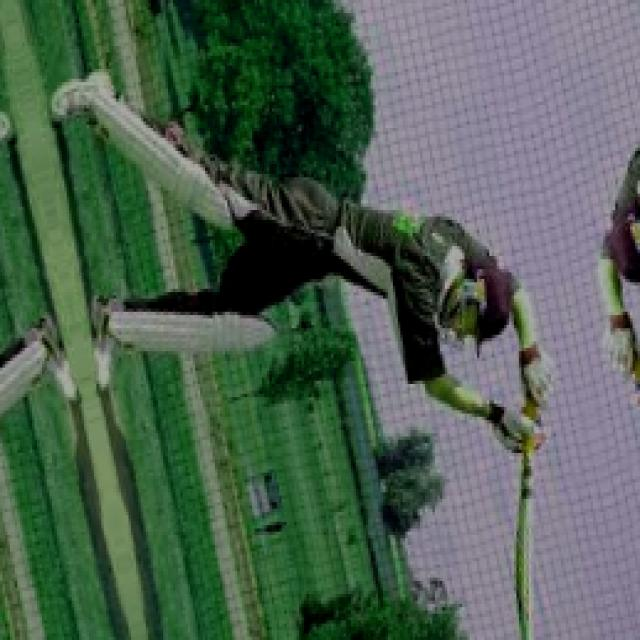toe: (509, 581, 536, 640)
